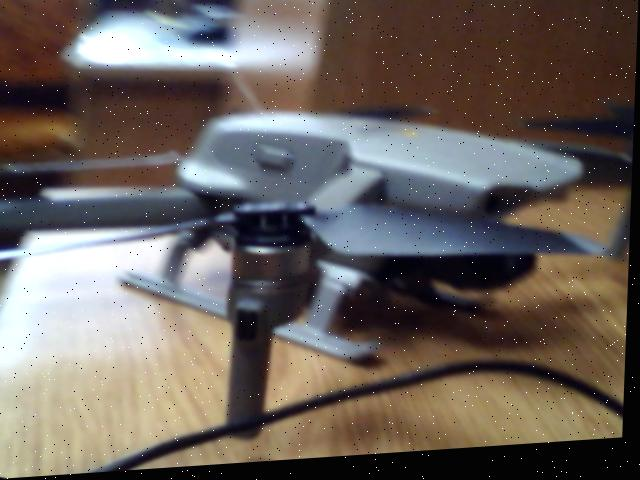drone: (0, 51, 638, 442)
